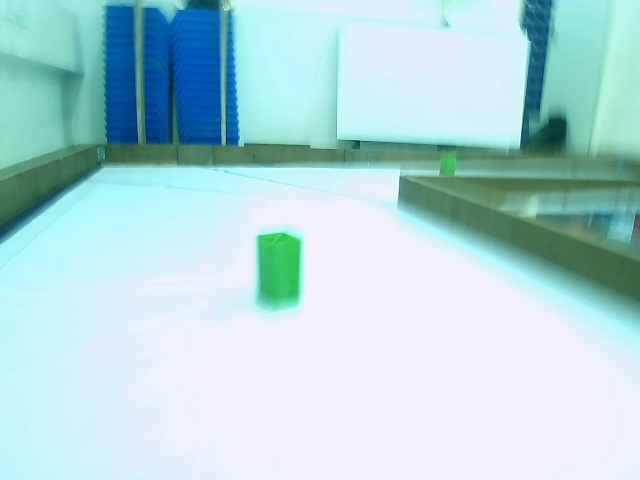green: (260, 232, 299, 305)
